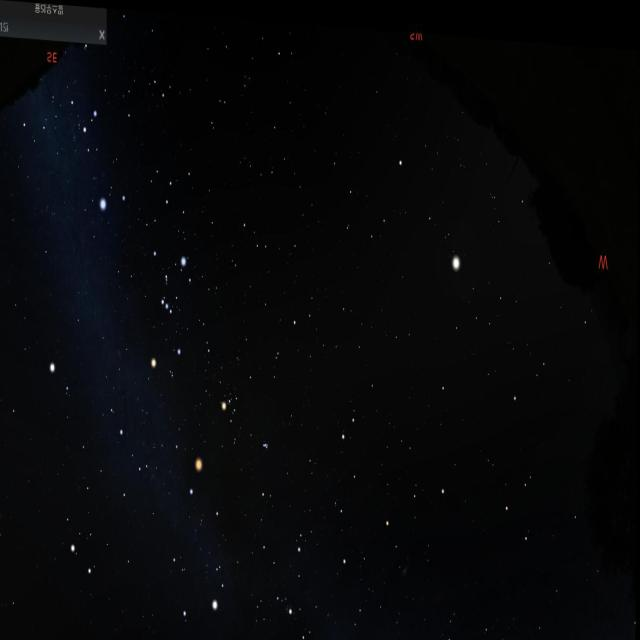canis_major: (74, 106, 134, 225)
canis_minor: (46, 354, 78, 406)
gemini: (62, 418, 158, 594)
orion: (145, 246, 191, 366)
pleiades: (258, 432, 273, 456)
taurus: (205, 361, 277, 476)
